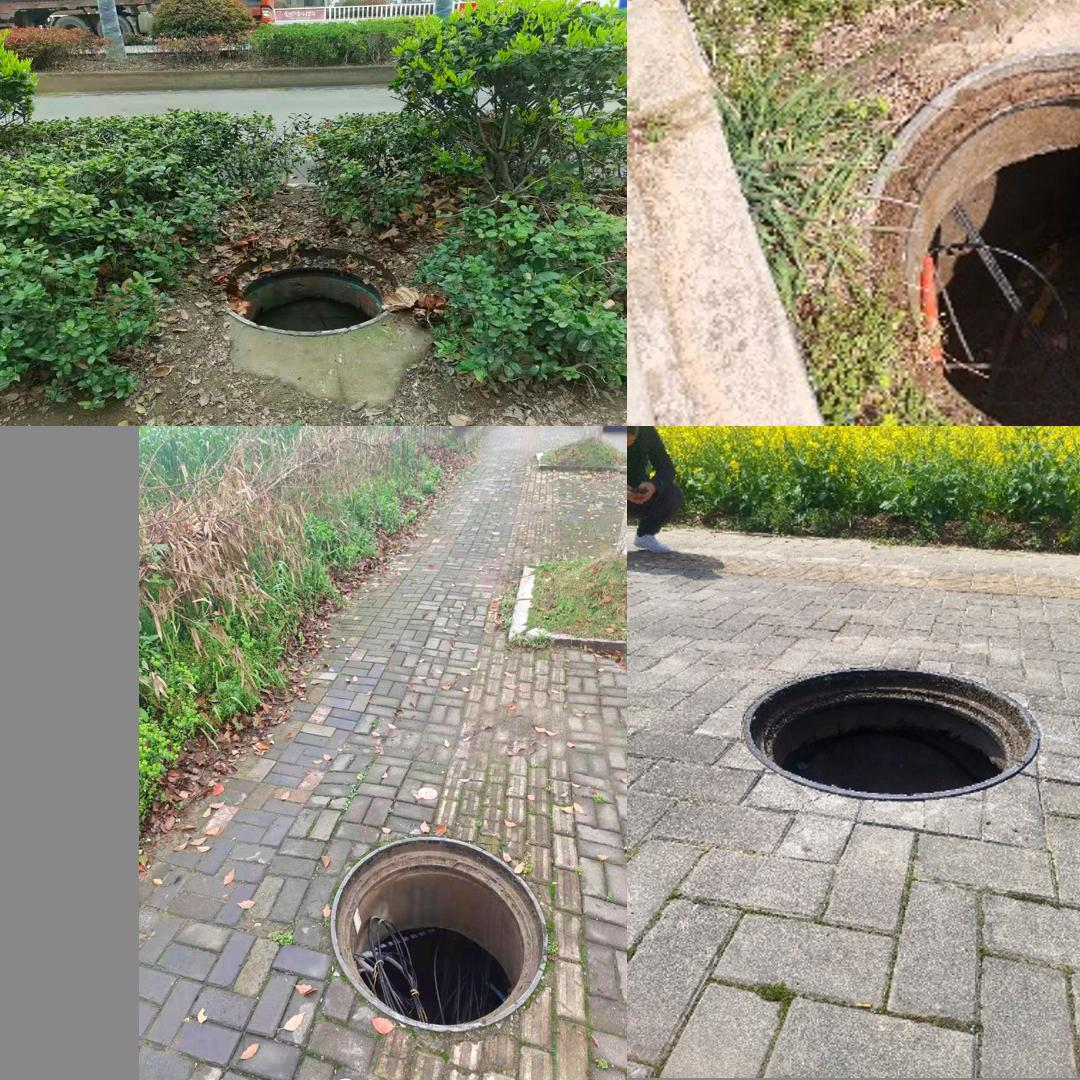lose: (831, 65, 1080, 413), (738, 651, 1050, 815), (330, 834, 547, 1033), (222, 244, 396, 335)
